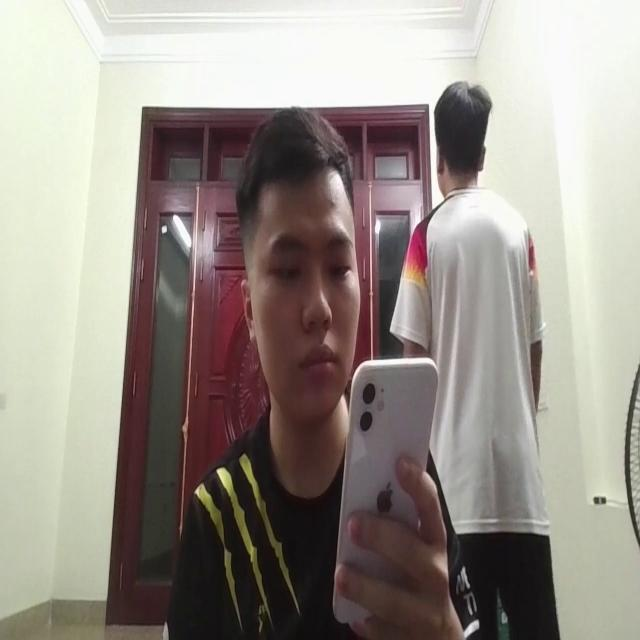extra_person: (383, 84, 554, 605)
phone: (327, 353, 435, 633)
student: (178, 108, 442, 640)
